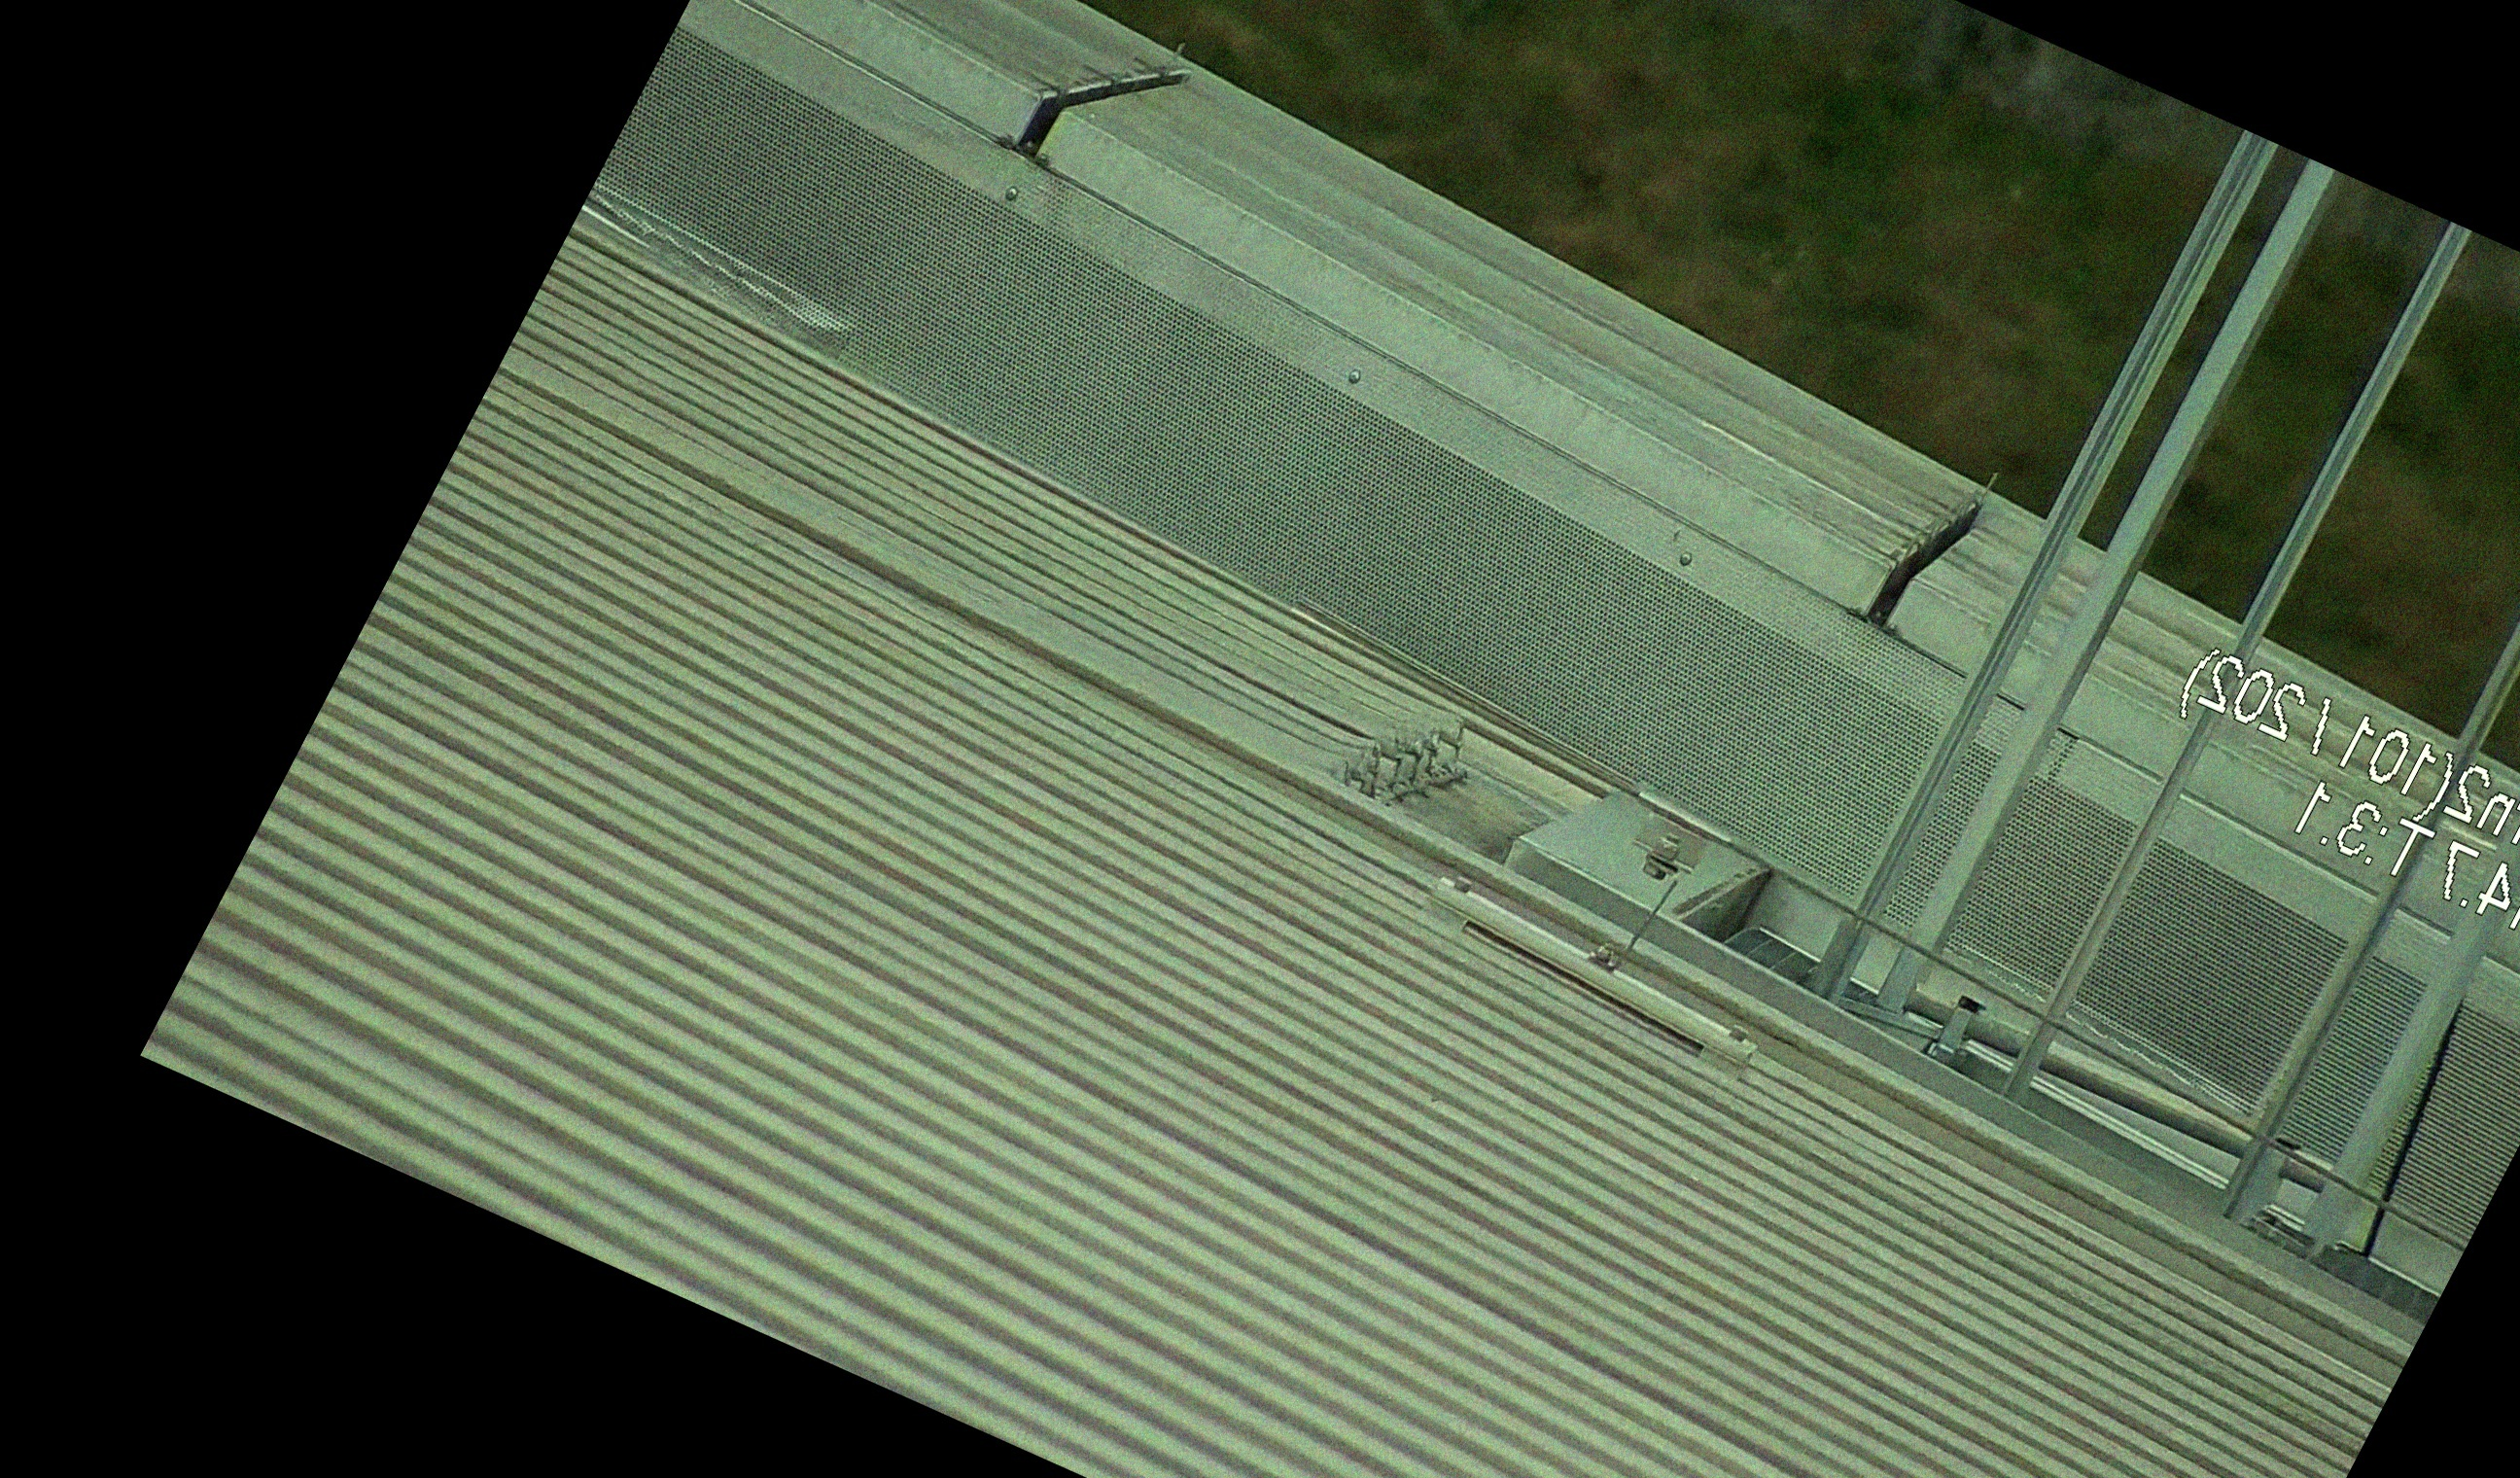Other: (1848, 447, 2022, 653)
